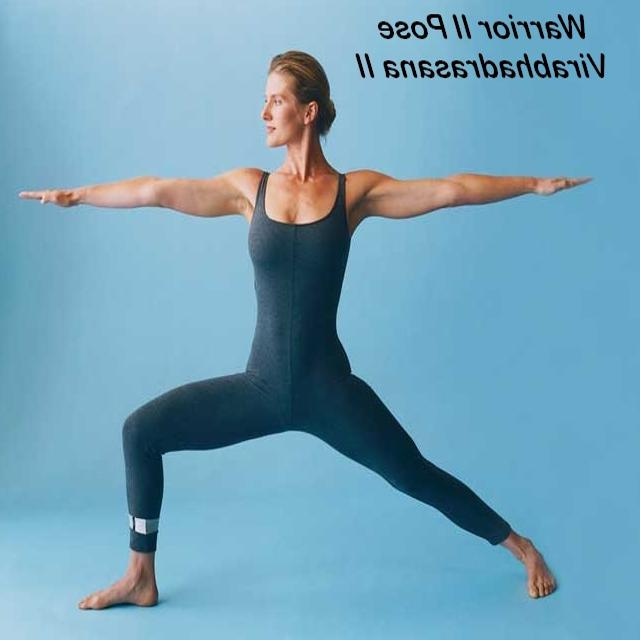Warrior_II: (21, 48, 593, 611)
